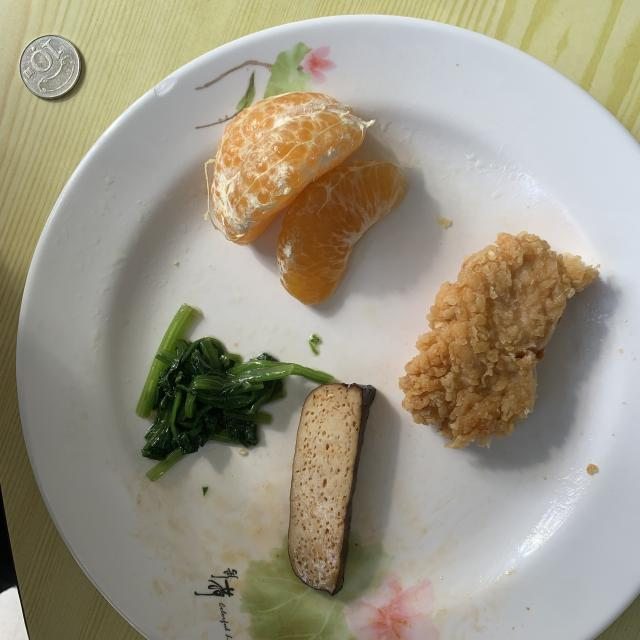coin: (19, 35, 81, 99)
firm tofu: (288, 384, 376, 595)
fried chicken cutlet: (399, 231, 599, 449)
mustard greens: (136, 305, 332, 480)
